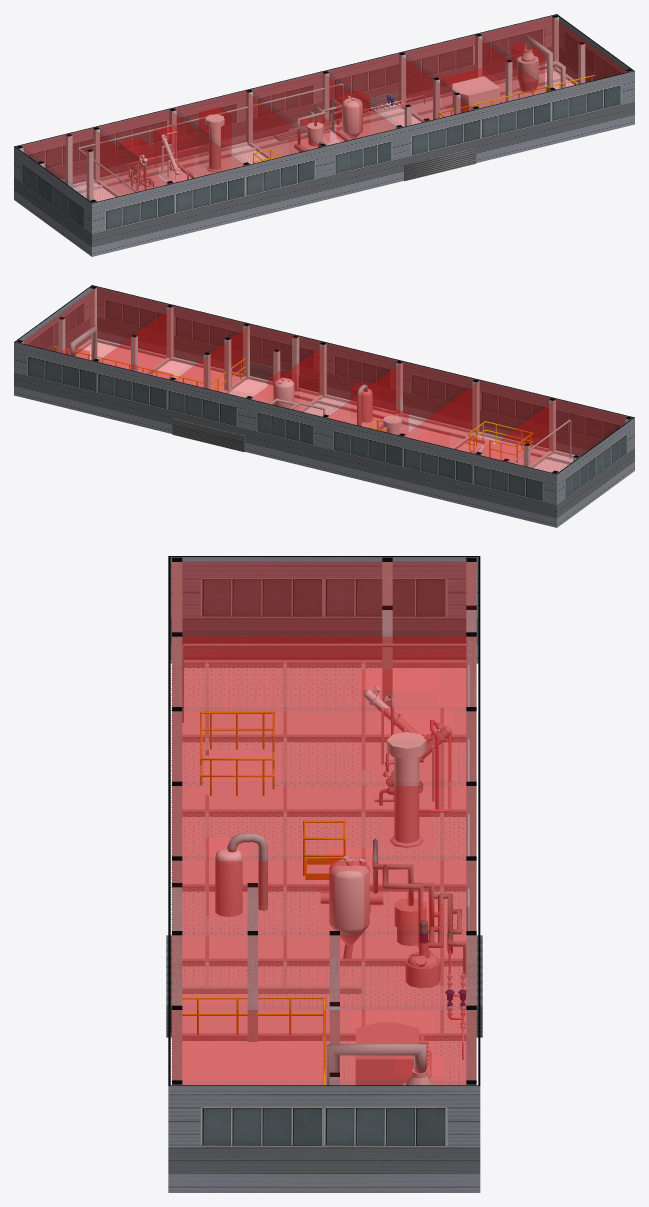
File: NST_5F.glb
3 views of the same model, one above another, from view 1: azimuth 30°, elevation 25°; view 2: azimuth 150°, elevation 25°; view 3: azimuth 270°, elevation 25° (orthographic). The views are drawn at different scales.
Parts seen in each view (by area): view 1: N-5F (1), 5F-004, 5F-006, 5F-002, 5F-007, 5F-003, 5F-005, 5F-001, Box043, floor-Rectangle010, equipment-5F-co-401, floor-Object049 (+15 smaller); view 2: N-5F (1), 5F-007, 5F-002, 5F-006, 5F-003, 5F-004, 5F-005, 5F-001, Box043, floor-Rectangle010, floor-Object049, equipment-5F-5F-001 (+7 smaller); view 3: N-5F (1), 5F-001, 5F-003, 5F-006, 5F-005, 5F-002, 5F-004, 5F-007, floor-Object049, Box043, floor-Rectangle010, equipment-5F-5F-001 (+18 smaller).
Boxes of the visible parts, bbox=[...] form: N-5F (1): bbox=[14, 14, 634, 256]; 5F-004: bbox=[251, 72, 397, 157]; 5F-006: bbox=[404, 35, 550, 119]; 5F-002: bbox=[98, 110, 244, 194]; 5F-007: bbox=[481, 16, 627, 100]; 5F-003: bbox=[174, 91, 321, 176]; 5F-005: bbox=[327, 54, 473, 134]; 5F-001: bbox=[22, 128, 167, 201]; Box043: bbox=[16, 15, 631, 202]; floor-Rectangle010: bbox=[72, 68, 578, 196]; equipment-5F-co-401: bbox=[154, 125, 193, 182]; floor-Object049: bbox=[71, 68, 574, 201]; N-5F (1): bbox=[14, 285, 634, 527]; 5F-007: bbox=[22, 287, 167, 368]; 5F-002: bbox=[404, 381, 550, 464]; 5F-006: bbox=[98, 306, 244, 391]; 5F-003: bbox=[327, 362, 474, 447]; 5F-004: bbox=[251, 343, 397, 428]; 5F-005: bbox=[174, 325, 321, 407]; 5F-001: bbox=[481, 399, 626, 472]; Box043: bbox=[17, 286, 632, 473]; floor-Rectangle010: bbox=[76, 339, 574, 467]; floor-Object049: bbox=[78, 338, 580, 472]; equipment-5F-5F-001: bbox=[268, 371, 299, 410]; N-5F (1): bbox=[166, 556, 482, 1192]; 5F-001: bbox=[172, 562, 475, 710]; 5F-003: bbox=[172, 711, 475, 860]; 5F-006: bbox=[172, 935, 475, 1084]; 5F-005: bbox=[172, 861, 475, 1009]; 5F-002: bbox=[172, 637, 475, 785]; 5F-004: bbox=[172, 786, 475, 934]; 5F-007: bbox=[172, 1010, 475, 1084]; floor-Object049: bbox=[170, 660, 465, 1084]; Box043: bbox=[172, 557, 476, 1085]; floor-Rectangle010: bbox=[182, 660, 465, 1084]; equipment-5F-5F-001: bbox=[326, 848, 372, 934].
Size of the model in its own units: 42.6 by 4.21 by 10.75.
Materials: 15 (7 with a texture image).
